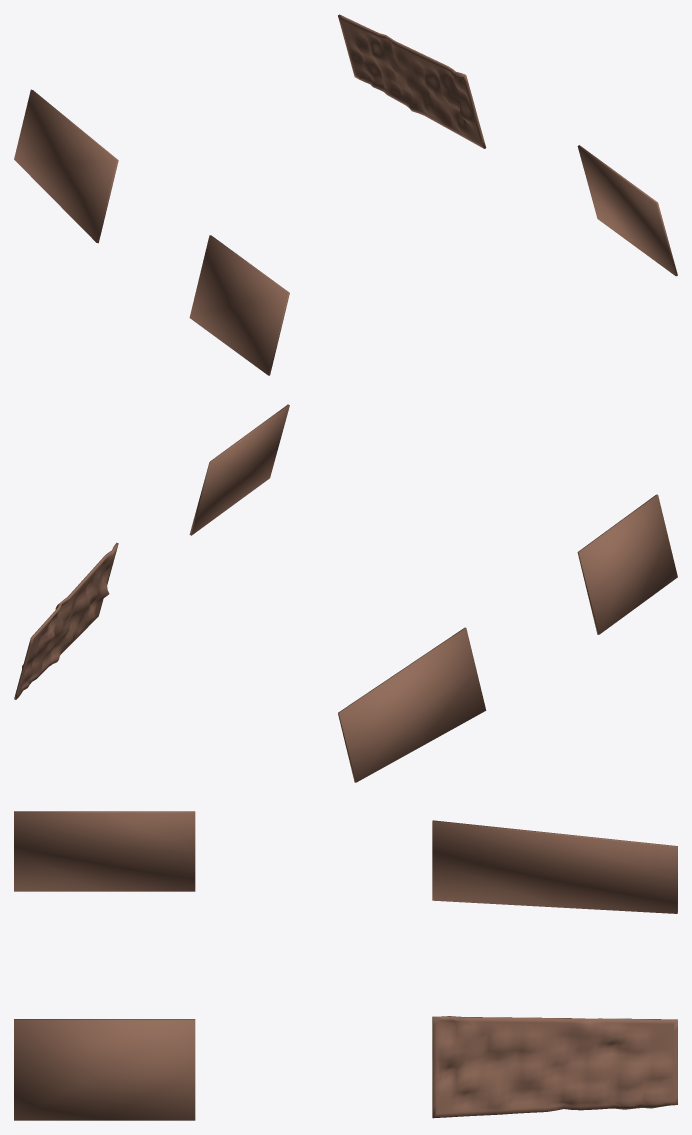
The model's file is NewSubmarine123.fbx.
3 renders of one model, top to bottom at view 1: azimuth 30°, elevation 25°; view 2: azimuth 150°, elevation 25°; view 3: azimuth 270°, elevation 25°, orthographic. The views are drawn at different scales.
Parts seen in each view (by area): view 1: breakingWall; view 2: breakingWall; view 3: breakingWall.
Boxes of the visible parts, x1,y1,x2,y2 form: breakingWall: (14, 14, 677, 375); breakingWall: (14, 404, 677, 782); breakingWall: (14, 811, 677, 1120).
Size of the model in its own units: 207 by 39.55 by 252.
